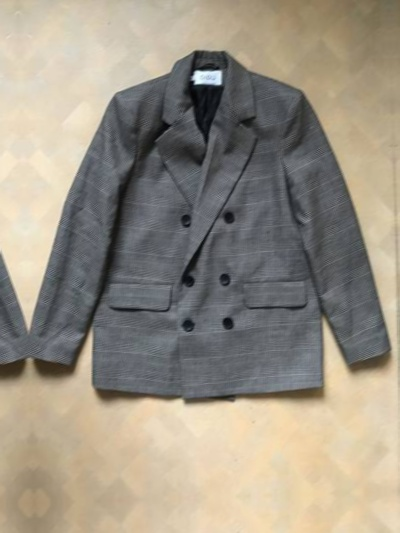Blazer: (19, 31, 400, 415), (0, 43, 31, 427), (390, 19, 400, 402)
